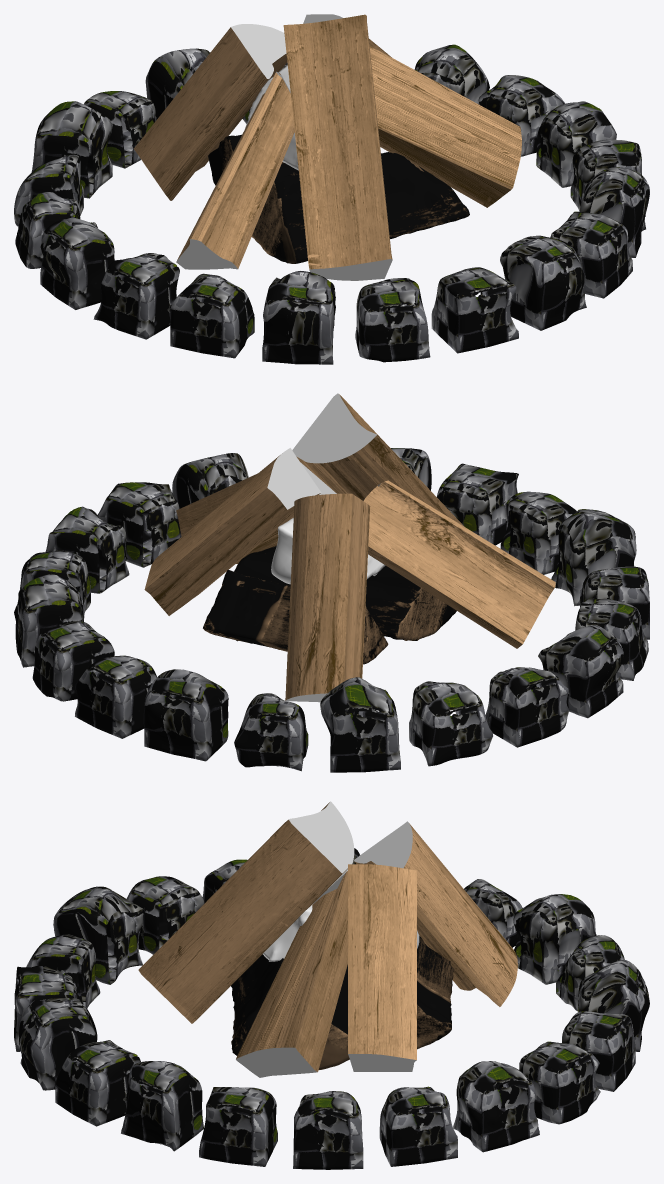
The model's file is CampFire.fbx.
3 views of the same model, one above another, from view 1: azimuth 30°, elevation 25°; view 2: azimuth 150°, elevation 25°; view 3: azimuth 270°, elevation 25° (orthographic).
Parts seen in each view (by area): view 1: StoneCircle, Fire-wood3, BurnedLog.001; view 2: StoneCircle, Fire-wood3, BurnedLog.001; view 3: StoneCircle, Fire-wood3, BurnedLog.001.
Part boxes in pixels (x1,y1,x2,y2): StoneCircle: (14,44,649,364); Fire-wood3: (134,14,521,280); BurnedLog.001: (208,65,469,263); StoneCircle: (14,448,649,772); Fire-wood3: (144,393,555,702); BurnedLog.001: (203,517,456,664); StoneCircle: (14,848,649,1169); Fire-wood3: (138,801,517,1077); BurnedLog.001: (231,904,453,1069).
Size of the model in its own units: 102 by 39.51 by 101.
